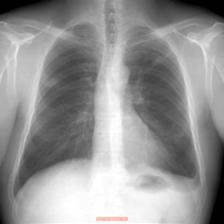tuberculosis: (7, 17, 210, 203)
